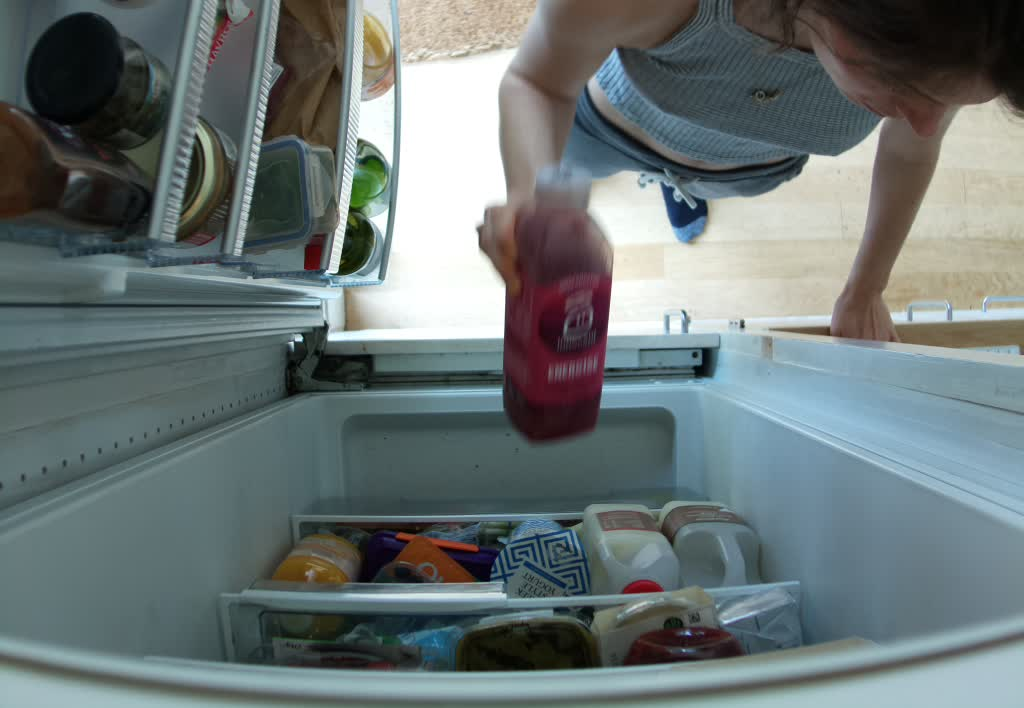juice: (503, 166, 610, 445)
